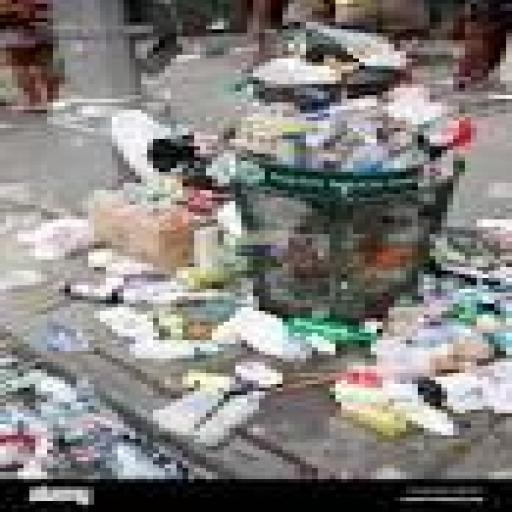poubelle_pleine: (131, 34, 506, 324)
